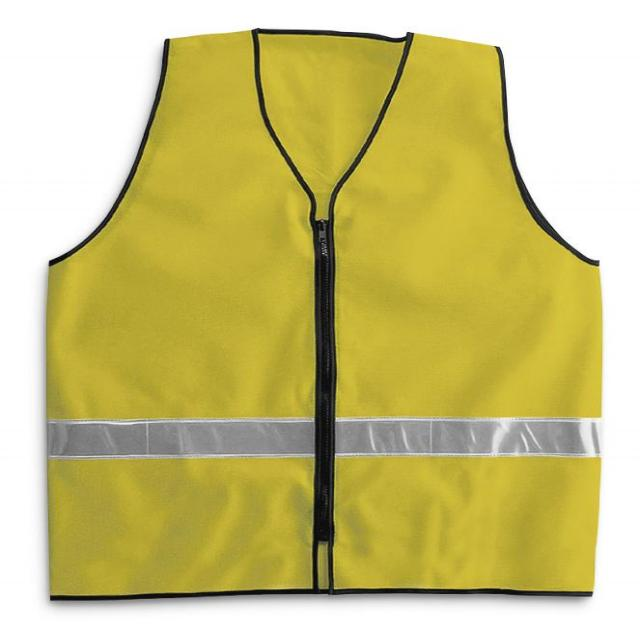Reflective-Jacket: (20, 0, 640, 640)
